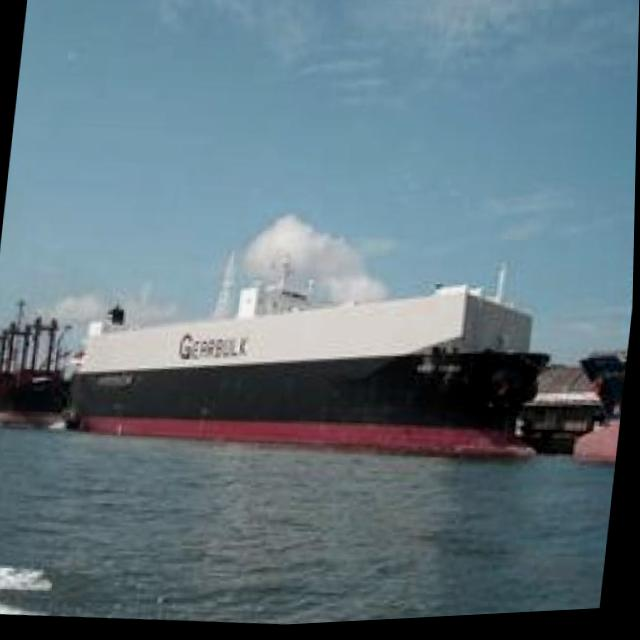ship2: (64, 247, 551, 466)
